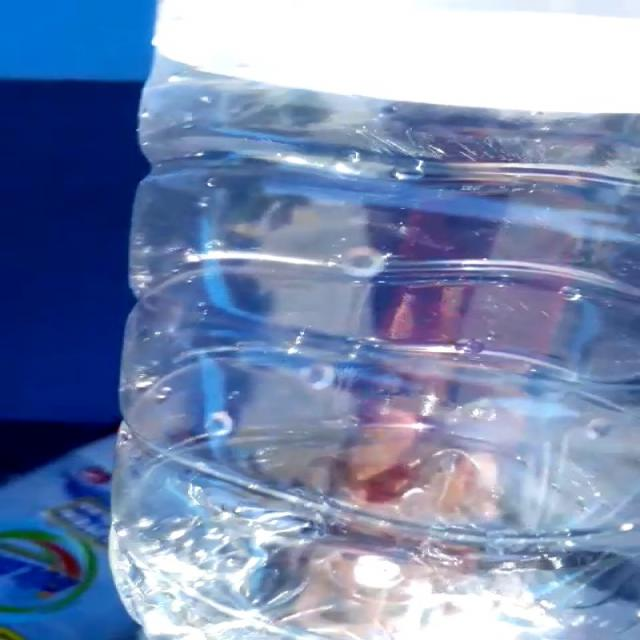plastic: (111, 0, 639, 640)
